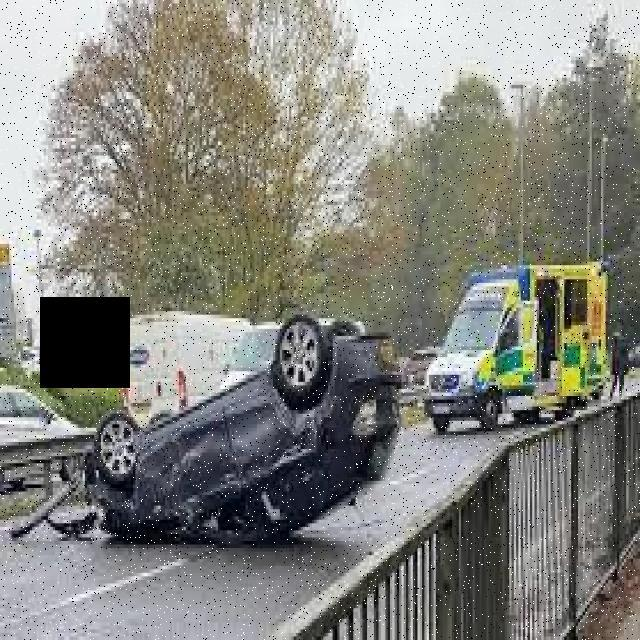severe: (80, 304, 404, 548)
